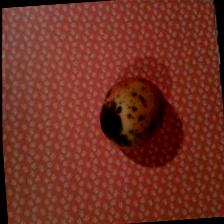Mango Overripe: (93, 74, 176, 152)
